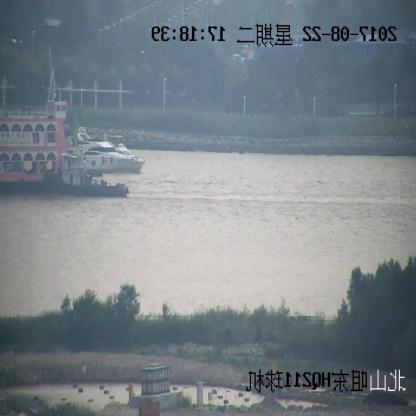Fishing Boat: (42, 127, 128, 198)
